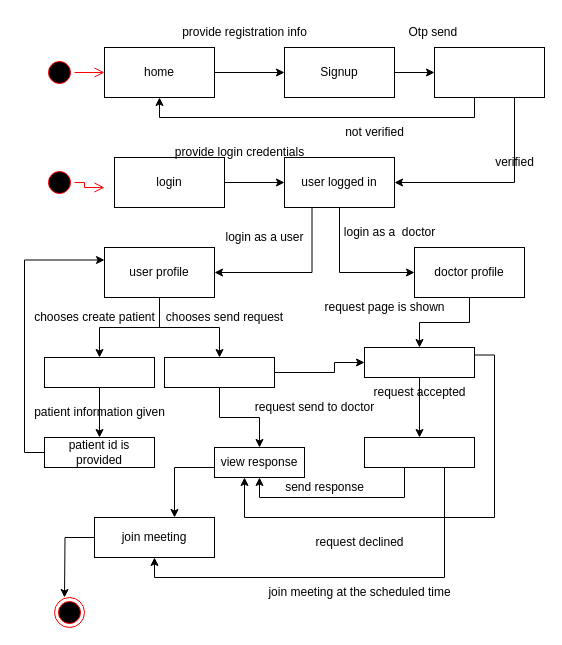
This 562x645 diagram has some shape labels left out. Each missing label, with the centre of its shape:
"create patient" belongs at [99,372].
"schedule meeting" belongs at [419,452].
"send request" belongs at [219,372].
"verify otp" belongs at [489,72].
"view requests" belongs at [419,362].
